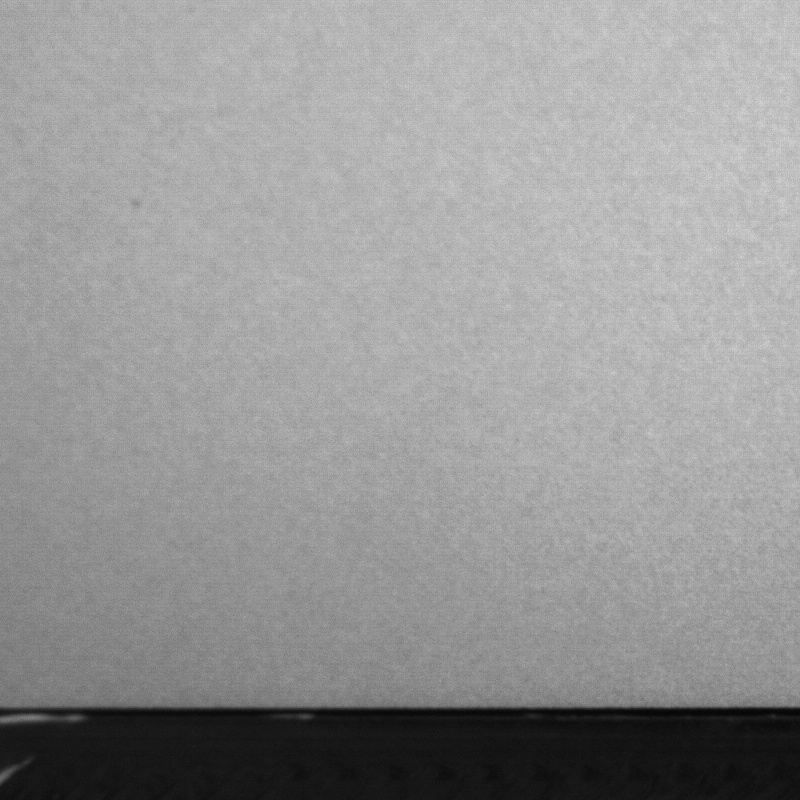defect: (121, 186, 164, 228)
